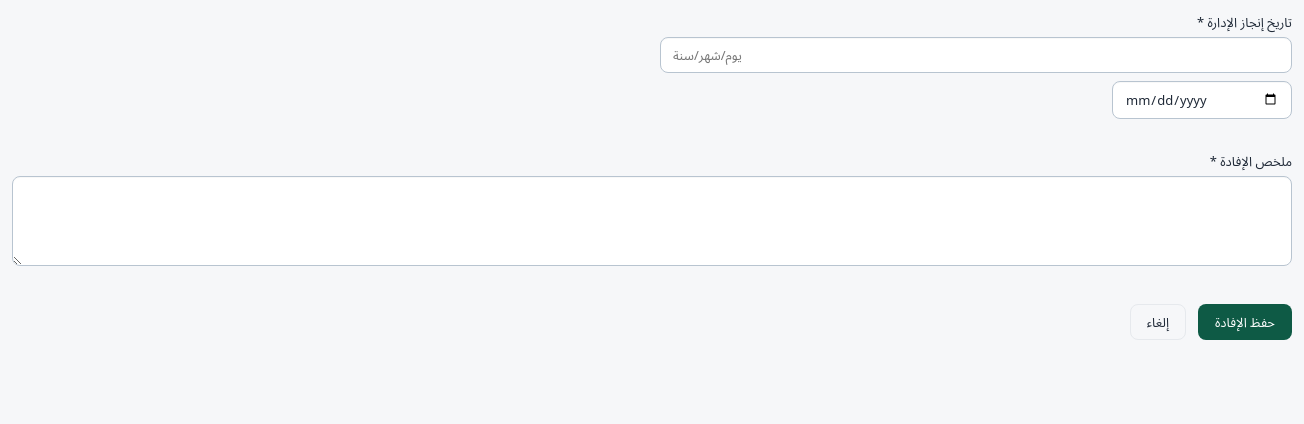
Test: ReplyFormPanel › starts department completion date empty and requires it before submit
expect the field labelled "تاريخ إنجاز الإدارة *" is empty: met, box [660,37,1292,73]
Type "تمت الإفادة" into the text box labelled "ملخص الإفادة *".
click(652, 221); type("تمت الإفادة")  # box [12,176,1292,266]
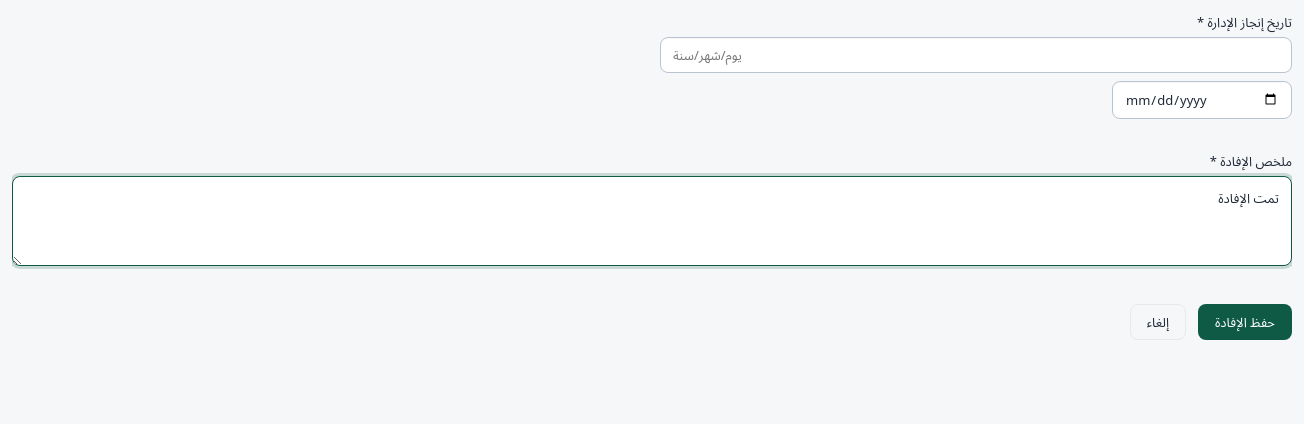
Click the button "حفظ الإفادة".
click(1245, 322)  # box [1198,304,1292,340]
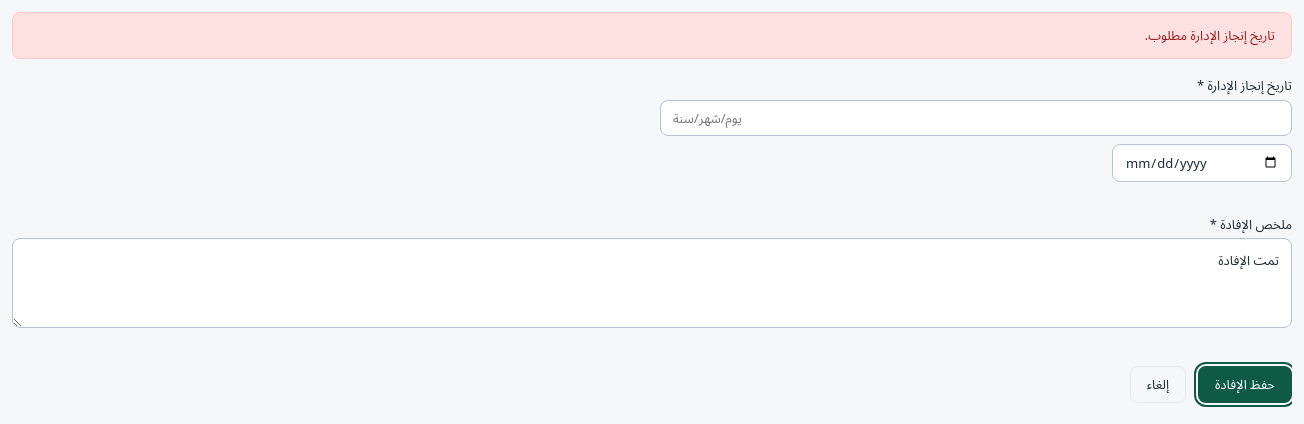
expect the message reads "تاريخ إنجاز الإدارة مطلوب.": met, box [1145,26,1275,44]
